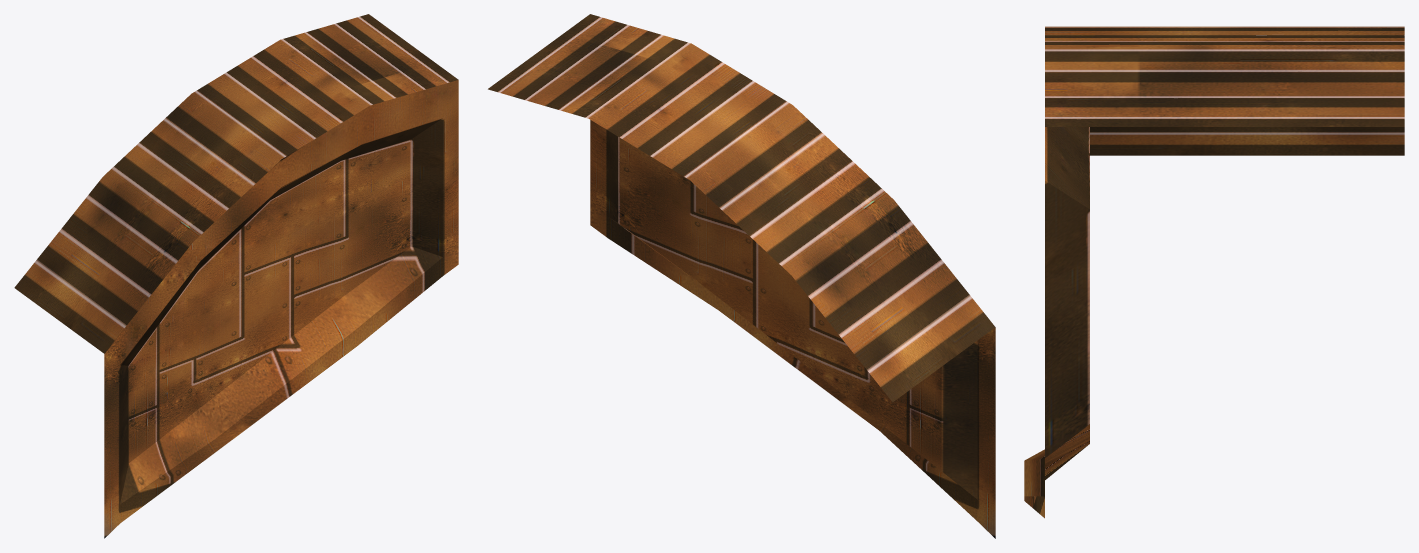
The model's file is floorUp3.fbx.
The picture shows the model from 3 angles, left to right: view 1: azimuth 30°, elevation 25°; view 2: azimuth 150°, elevation 25°; view 3: azimuth 270°, elevation 25°; orthographic projection. The views are drawn at different scales.
Parts seen in each view (by area): view 1: pCube36; view 2: pCube36; view 3: pCube36.
Part boxes in pixels (x1=…): pCube36: x1=14, y1=14, x2=458, y2=538; pCube36: x1=488, y1=14, x2=995, y2=538; pCube36: x1=1024, y1=26, x2=1404, y2=518.
Bounding box in the file's own units: 16 × 16.07 × 7.44.
